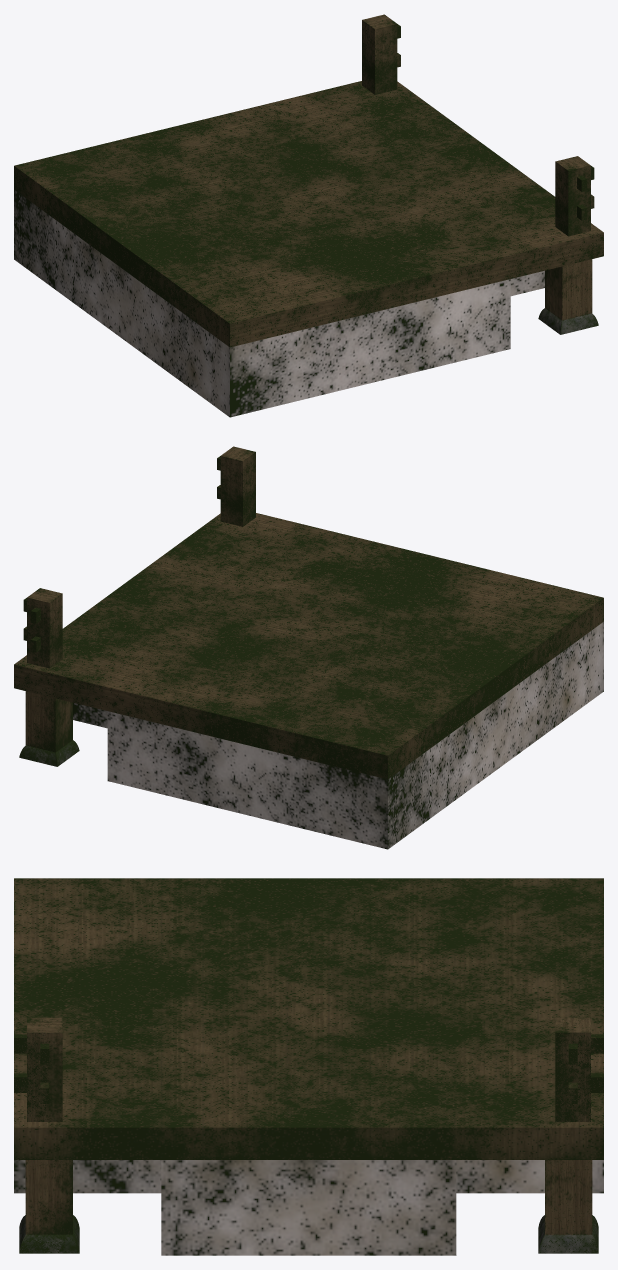
Rendered from shrine_floor_outside_tjunction_01.fbx.
The picture shows the model from 3 angles, top to bottom: view 1: azimuth 30°, elevation 25°; view 2: azimuth 150°, elevation 25°; view 3: azimuth 270°, elevation 25°; orthographic projection. The views are drawn at different scales.
Visible parts, largest first — view 1: shrine_floor_outside_tjunction_01; view 2: shrine_floor_outside_tjunction_01; view 3: shrine_floor_outside_tjunction_01.
Boxes of the visible parts, x1,y1,x2,y2 form: shrine_floor_outside_tjunction_01: (14,14,603,417); shrine_floor_outside_tjunction_01: (14,446,603,849); shrine_floor_outside_tjunction_01: (14,878,603,1255).
Bounding box in the file's own units: 330 × 134 × 330.
1 material, 1 textured.
